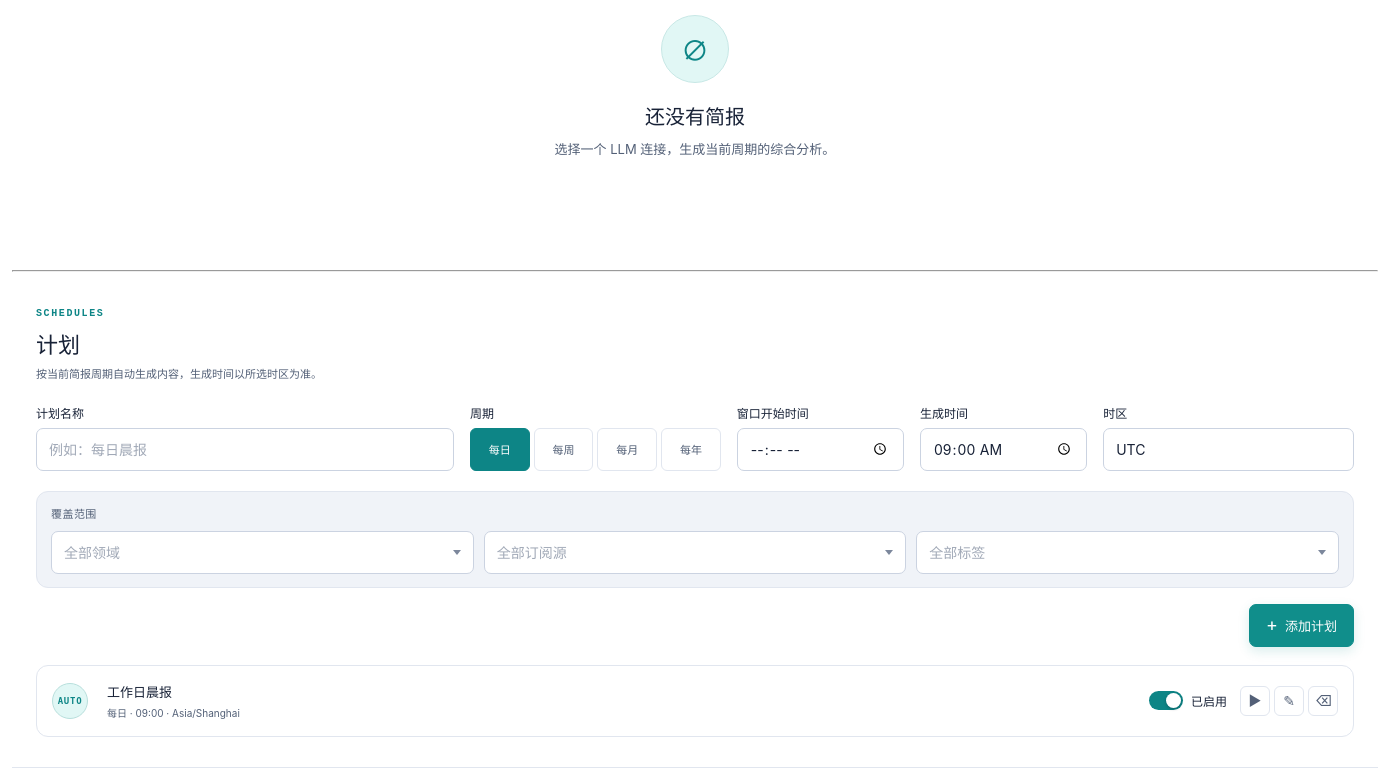
BriefWorkspace › edits an existing schedule and saves the changes
(page scrolled)
Click the button named "修改计划 工作日晨报" at (1289, 700), box [1274,686,1304,716]
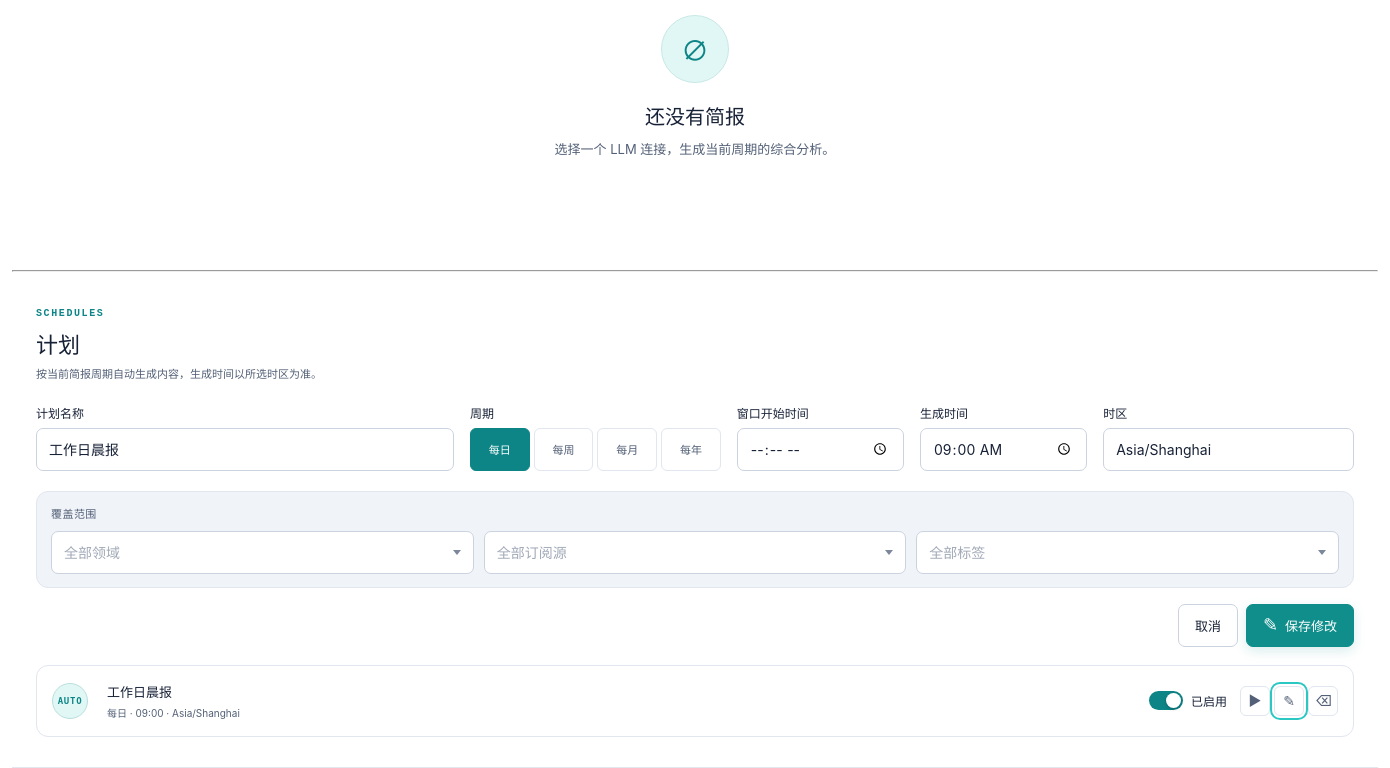
Replace the text in the field labelled "计划名称" with "每周简报" at (245, 449), box [36,428,454,470]
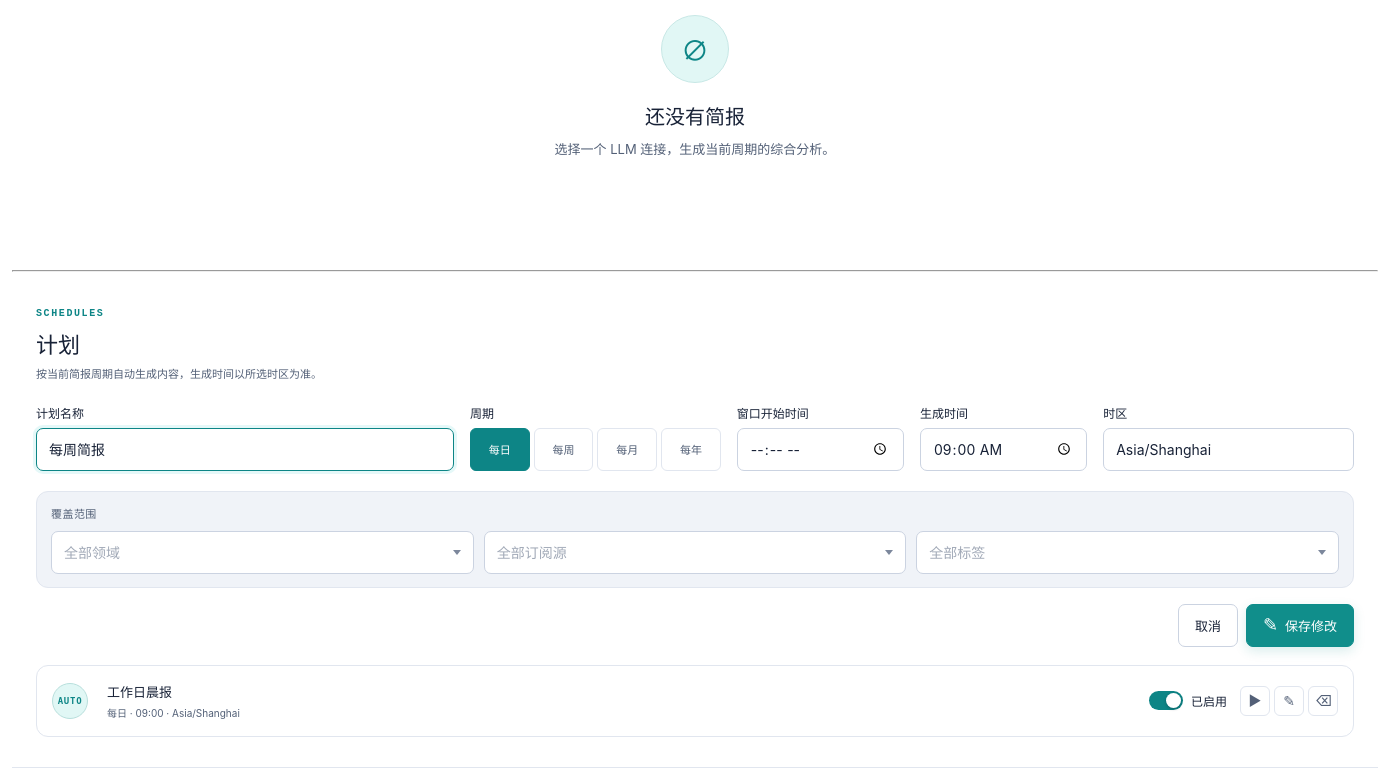
Click the button "每周" at (564, 449), box [534,428,593,470]
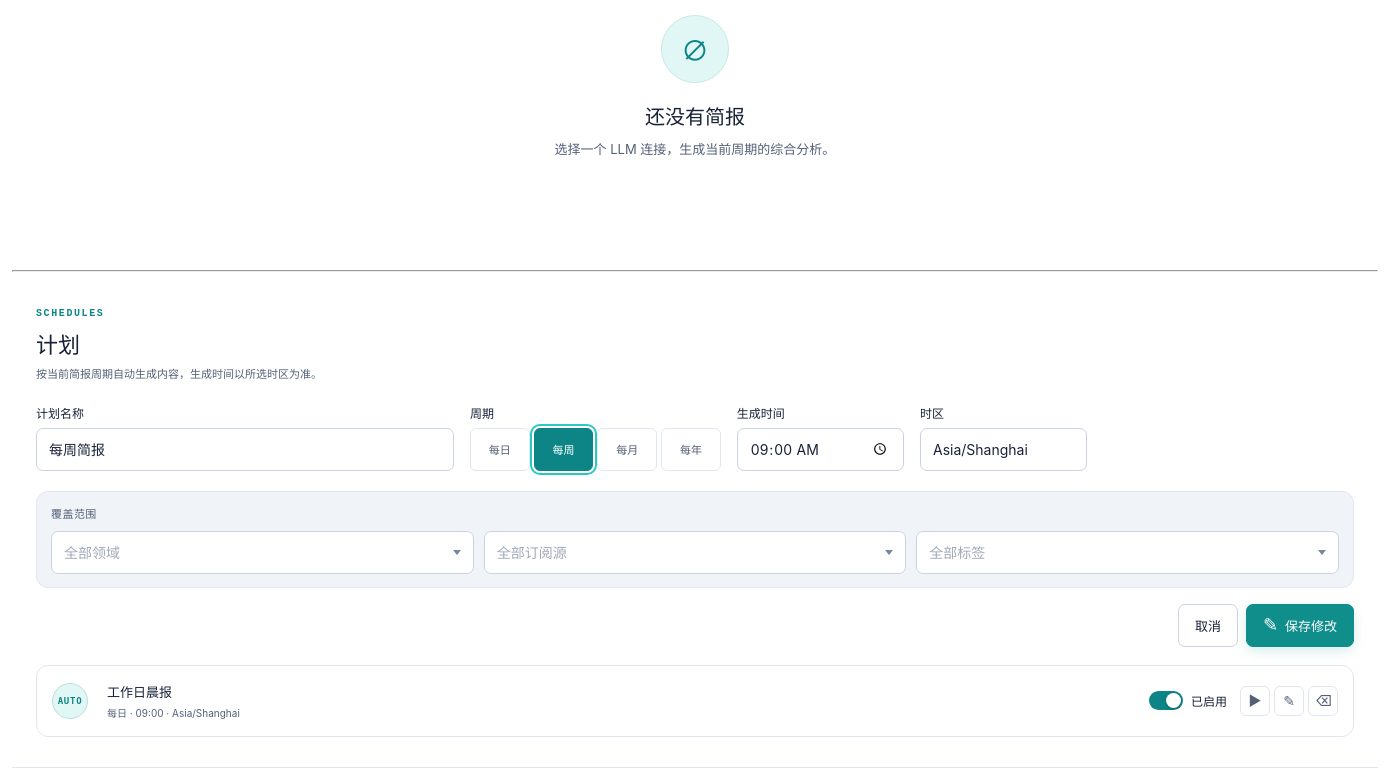
Replace the text in the time field labelled "生成时间" with "07:30" at (820, 449), box [737,428,904,470]
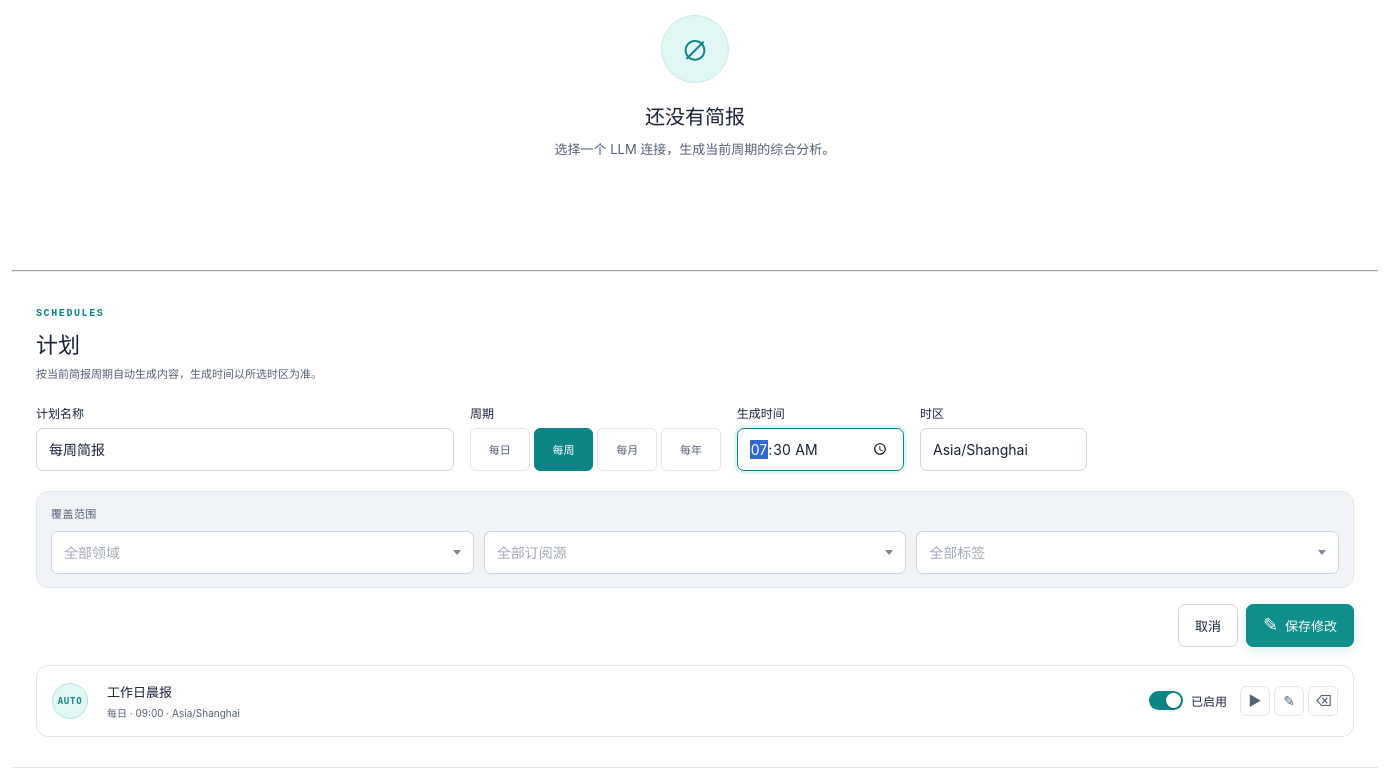
Click the button "✎ 保存修改" at (1300, 625), box [1246,604,1354,646]
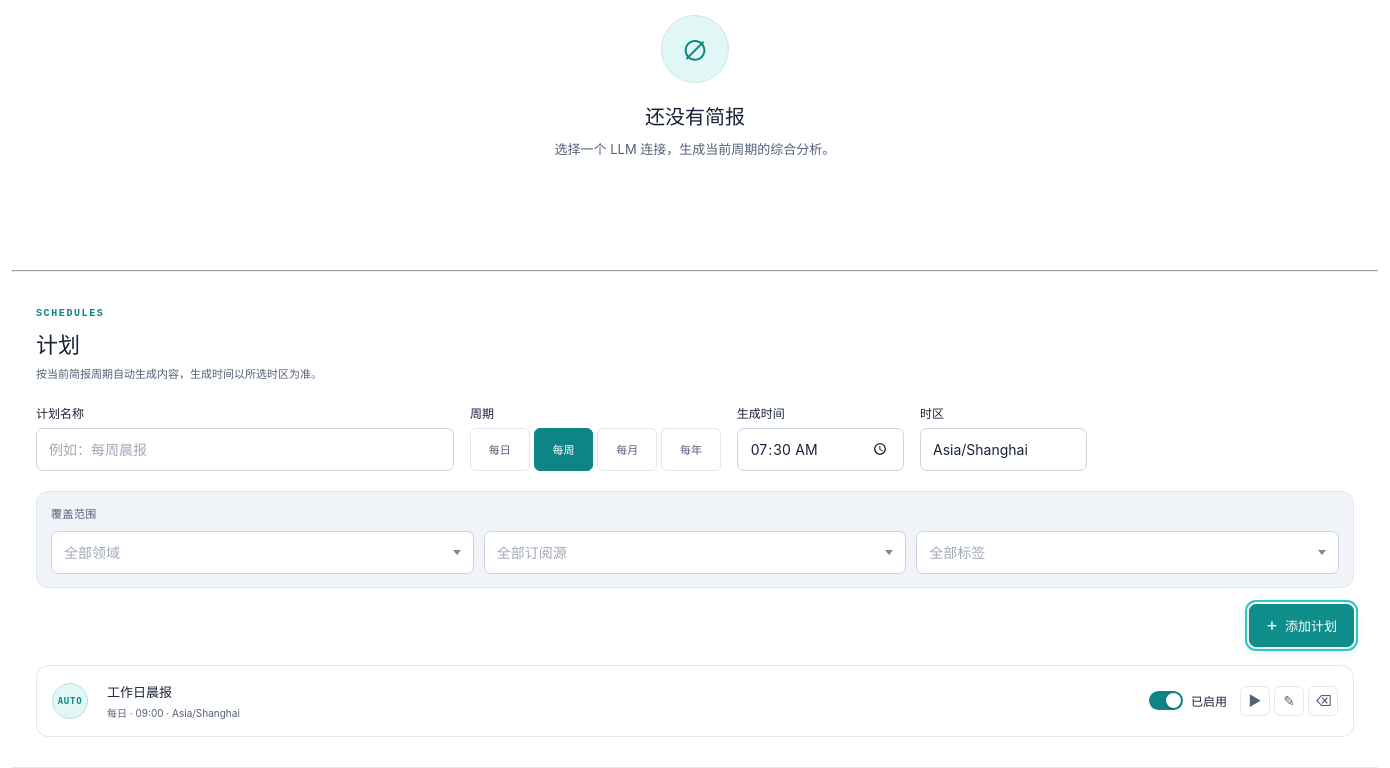
Expected: the button "取消" is gone
